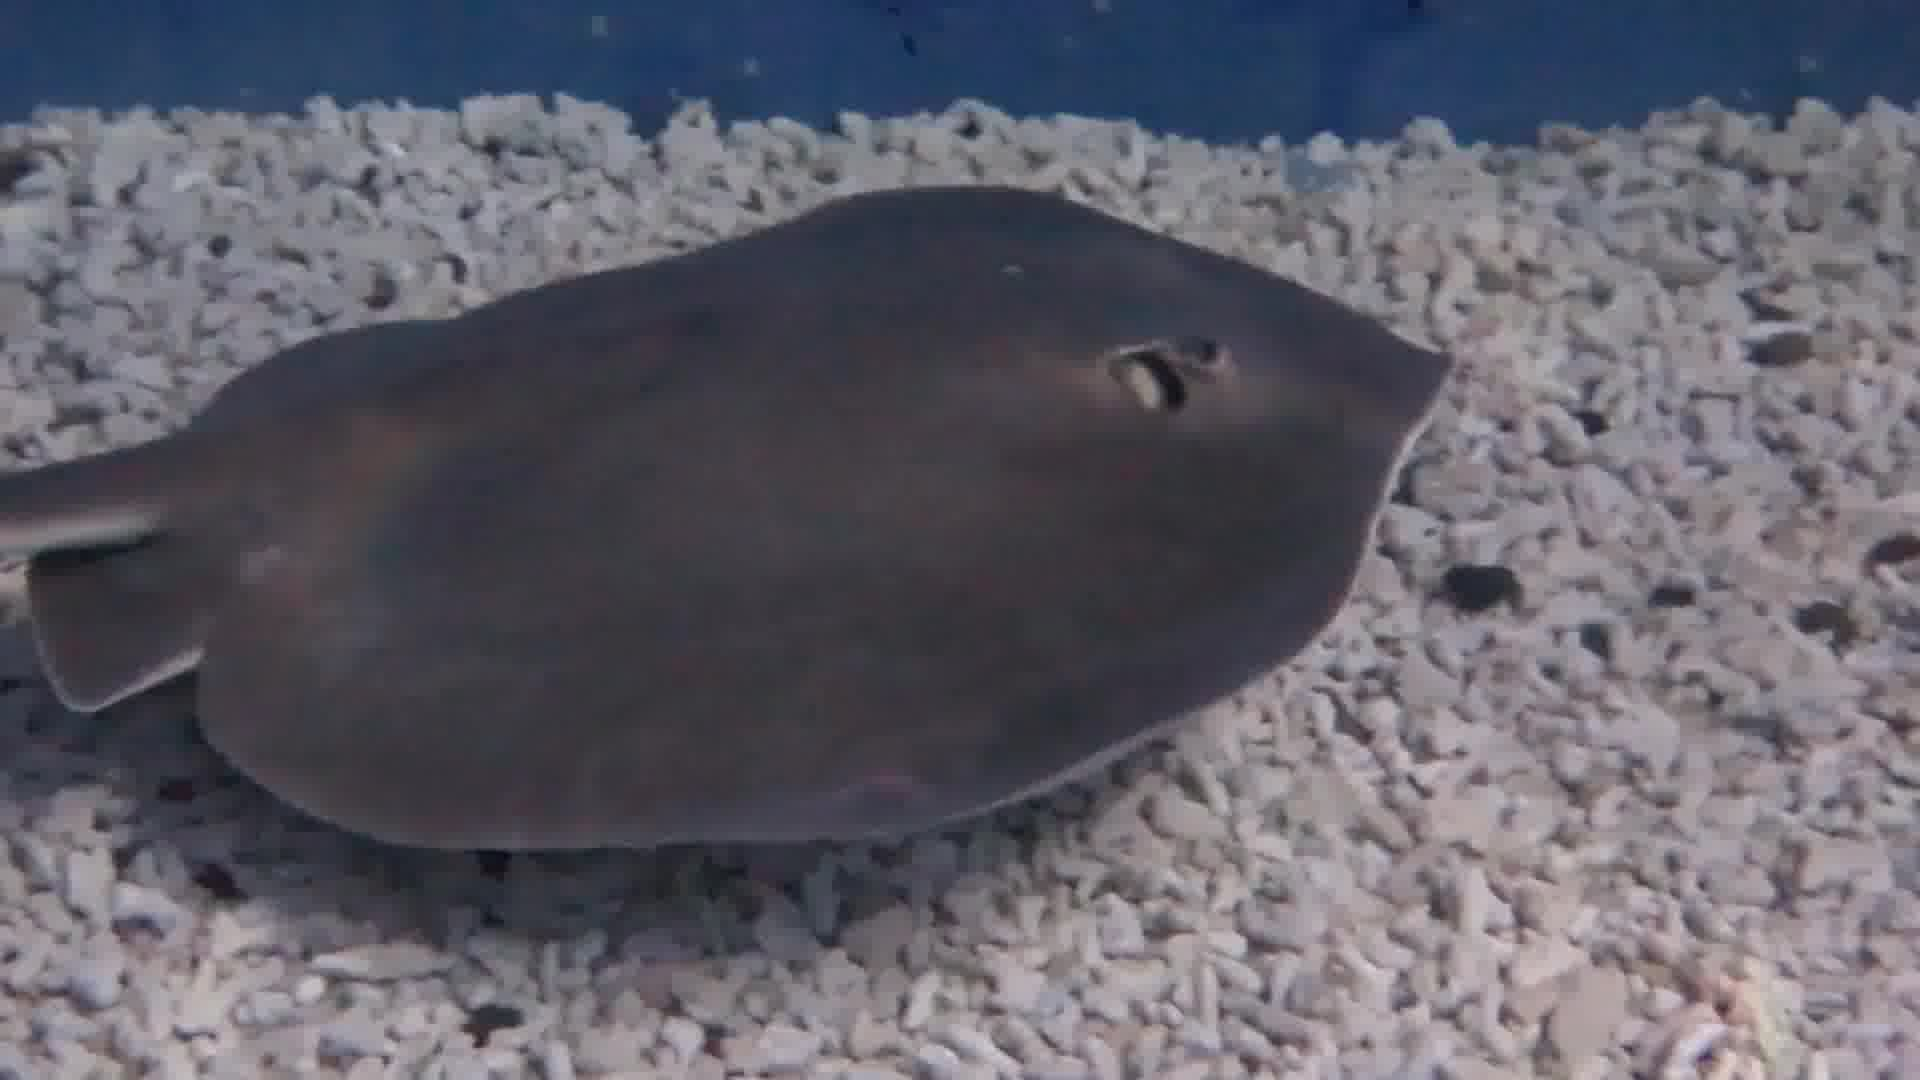Dasyatis bennetti: (78, 88, 1443, 939)
